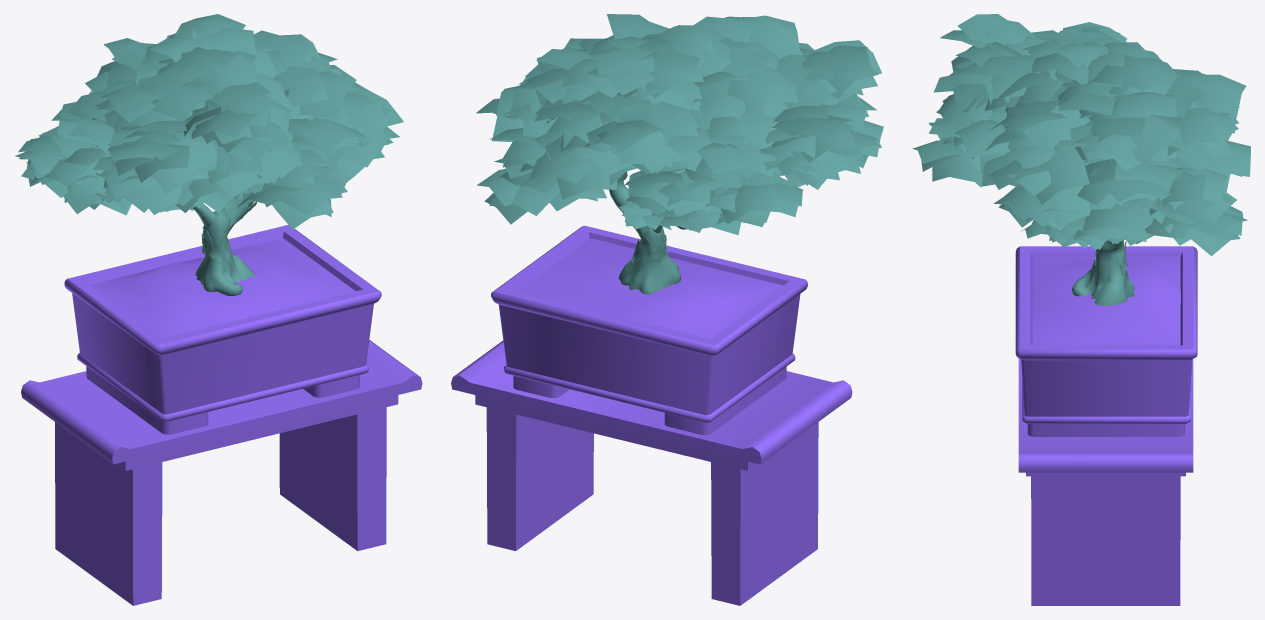
Rendered from PottedPlant.FBX.
The picture shows the model from 3 angles, left to right: view 1: azimuth 30°, elevation 25°; view 2: azimuth 150°, elevation 25°; view 3: azimuth 270°, elevation 25°; orthographic projection. The views are drawn at different scales.
Parts seen in each view (by area): view 1: Potted_Plant_01_LOD00; view 2: Potted_Plant_01_LOD00; view 3: Potted_Plant_01_LOD00.
Part boxes in pixels (box(x1,y1,x2,y2)): Potted_Plant_01_LOD00: box(15, 14, 422, 605); Potted_Plant_01_LOD00: box(451, 14, 883, 605); Potted_Plant_01_LOD00: box(912, 14, 1250, 605).
Size of what is drawn, in the model's own units: 116 by 184 by 139.
